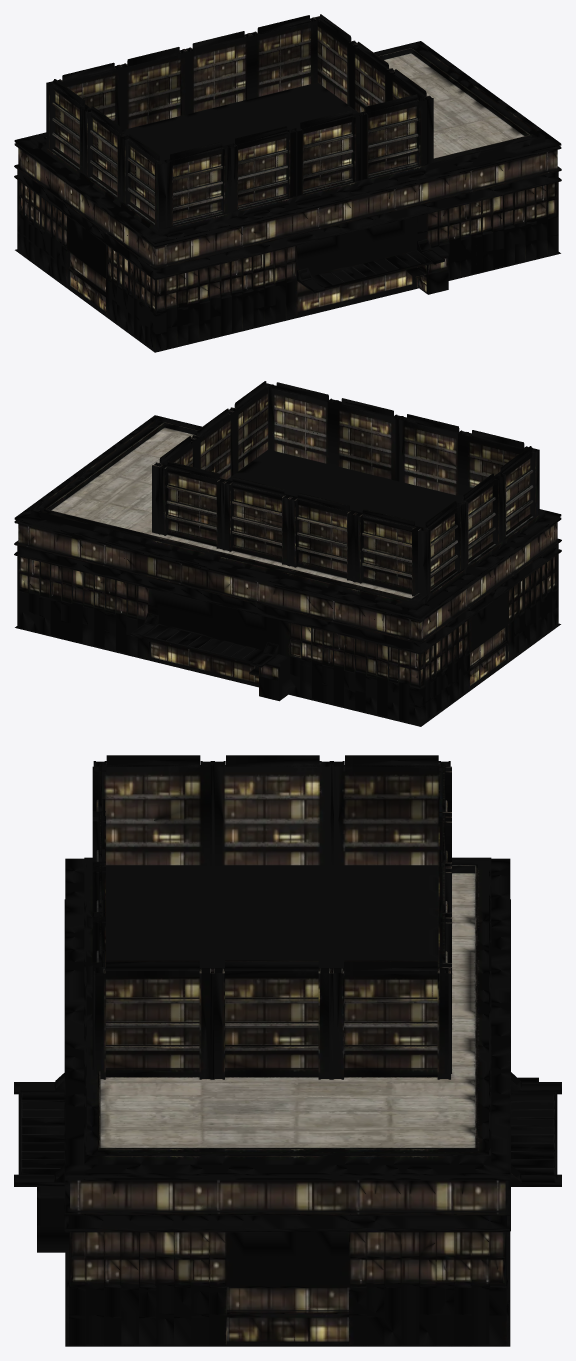
Rendered from bld22_18.glb.
The picture shows the model from 3 angles, top to bottom: view 1: azimuth 30°, elevation 25°; view 2: azimuth 150°, elevation 25°; view 3: azimuth 270°, elevation 25°; orthographic projection. The views are drawn at different scales.
Visible parts, largest first — view 1: bld22_18; view 2: bld22_18; view 3: bld22_18.
Boxes of the visible parts, x1=… form: bld22_18: x1=14, y1=14, x2=561, y2=352; bld22_18: x1=14, y1=381, x2=561, y2=726; bld22_18: x1=14, y1=755, x2=561, y2=1346.
Size of the model in its own units: 150 by 64.49 by 110.
Materials: 1 (1 with a texture image).
